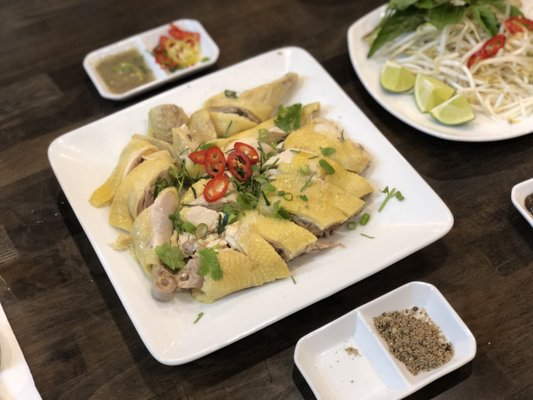soup: (265, 154, 376, 239), (252, 213, 318, 261)
sushi: (81, 18, 220, 101)
